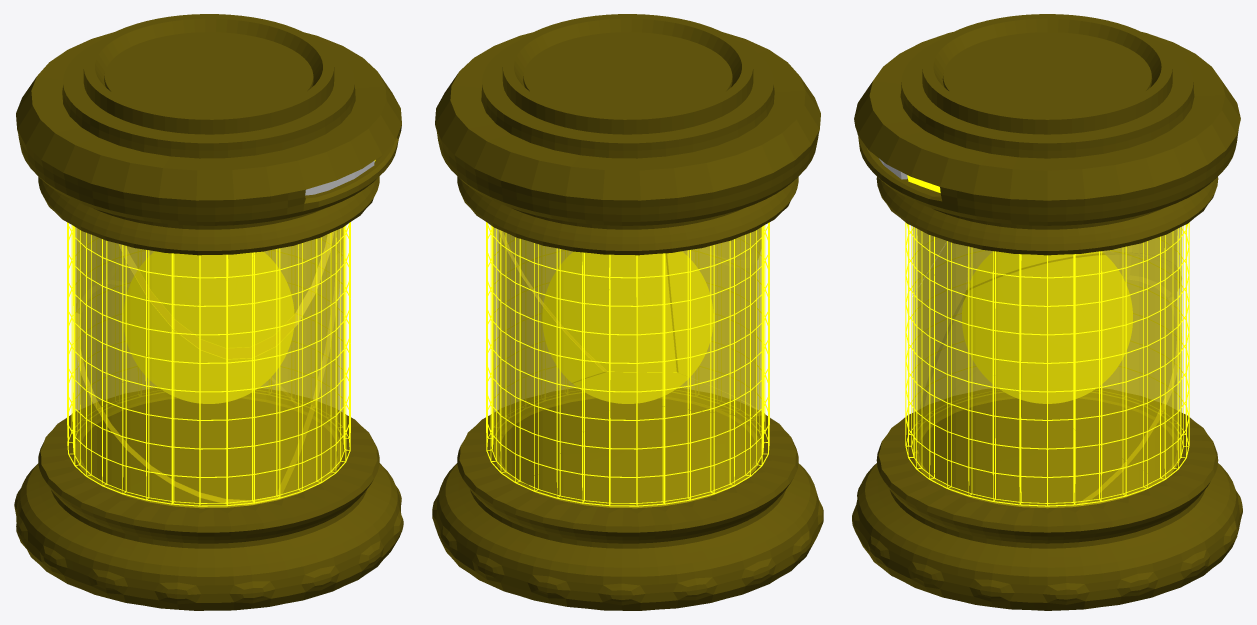
The model's file is BrokenTutuThree.fbx.
3 views of the same model, side by side, from view 1: azimuth 30°, elevation 25°; view 2: azimuth 150°, elevation 25°; view 3: azimuth 270°, elevation 25° (orthographic).
Parts seen in each view (by area): view 1: 円柱.002, 円柱.001_cell.002, 円柱.001_cell.003, 円柱.001_cell, 円柱.001_cell.001, 円柱_cell.002, 球_cell.001, 球_cell.002, 球_cell.004, 円柱_cell.001, 円柱.001_cell.004, 球_cell (+3 smaller); view 2: 円柱.002, 円柱.001_cell, 円柱.001_cell.004, 円柱.001_cell.002, 円柱.001_cell.001, 球_cell.004, 球_cell.003, 円柱_cell.003, 円柱_cell.001, 円柱_cell, 球_cell.002, 円柱_cell.002 (+1 smaller); view 3: 円柱.002, 円柱.001_cell.001, 円柱.001_cell, 球_cell.001, 円柱_cell.003, 円柱.001_cell.002, 球_cell.003, 円柱.001_cell.004, 球_cell, 円柱_cell.002, 円柱_cell.004, 円柱.001_cell.003.
Part boxes in pixels (box(x1,y1,x2,y2)): 円柱.002: box(14, 14, 403, 610); 円柱.001_cell.002: box(75, 227, 342, 505); 円柱.001_cell.003: box(119, 231, 333, 358); 円柱.001_cell: box(75, 284, 301, 508); 円柱.001_cell.001: box(109, 231, 343, 499); 円柱_cell.002: box(85, 244, 350, 506); 球_cell.001: box(196, 281, 294, 403); 球_cell.002: box(139, 251, 238, 350); 球_cell.004: box(123, 268, 206, 403); 円柱_cell.001: box(67, 222, 254, 416); 円柱.001_cell.004: box(76, 227, 343, 312); 球_cell: box(235, 252, 285, 292); 円柱.002: box(432, 14, 823, 610); 円柱.001_cell: box(493, 372, 761, 508); 円柱.001_cell.004: box(498, 229, 678, 372); 円柱.001_cell.002: box(666, 227, 761, 415); 円柱.001_cell.001: box(493, 227, 689, 435); 球_cell.004: box(572, 297, 713, 403); 球_cell.003: box(543, 252, 648, 381); 円柱_cell.003: box(486, 222, 620, 486); 円柱_cell.001: box(608, 222, 769, 416); 円柱_cell: box(524, 403, 752, 506); 球_cell.002: box(617, 251, 709, 302); 円柱_cell.002: box(744, 254, 769, 476); 円柱.002: box(852, 14, 1242, 610); 円柱.001_cell.001: box(913, 252, 1182, 508); 円柱.001_cell: box(915, 279, 1182, 505); 球_cell.001: box(962, 264, 1108, 403); 円柱_cell.003: box(916, 222, 1189, 481); 円柱.001_cell.002: box(912, 241, 1128, 451); 球_cell.003: box(1048, 251, 1132, 377); 円柱.001_cell.004: box(966, 227, 1182, 296); 球_cell: box(981, 254, 1082, 320); 円柱_cell.002: box(905, 222, 974, 478); 円柱_cell.004: box(928, 375, 1161, 506); 円柱.001_cell.003: box(912, 227, 946, 295).
Bounding box in the file's own units: 276 × 371 × 276.
